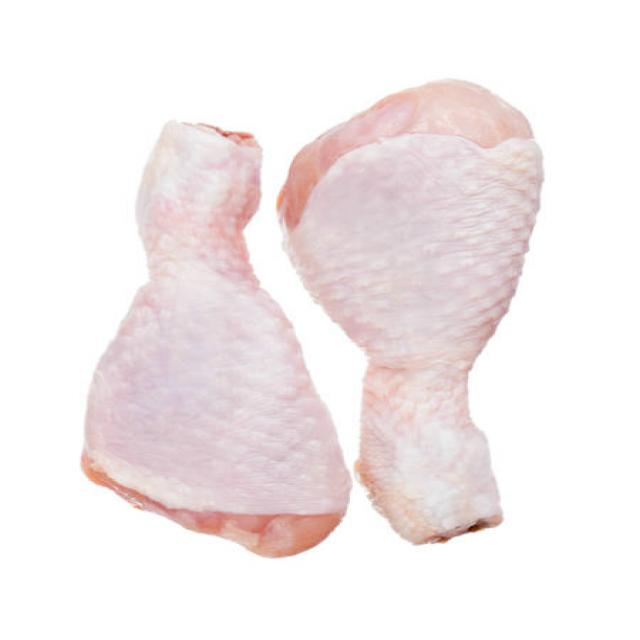Chicken Thigh: (284, 73, 552, 539), (75, 105, 344, 555)
